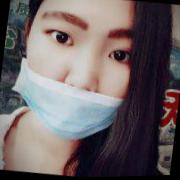WRONG: (18, 1, 145, 149)
